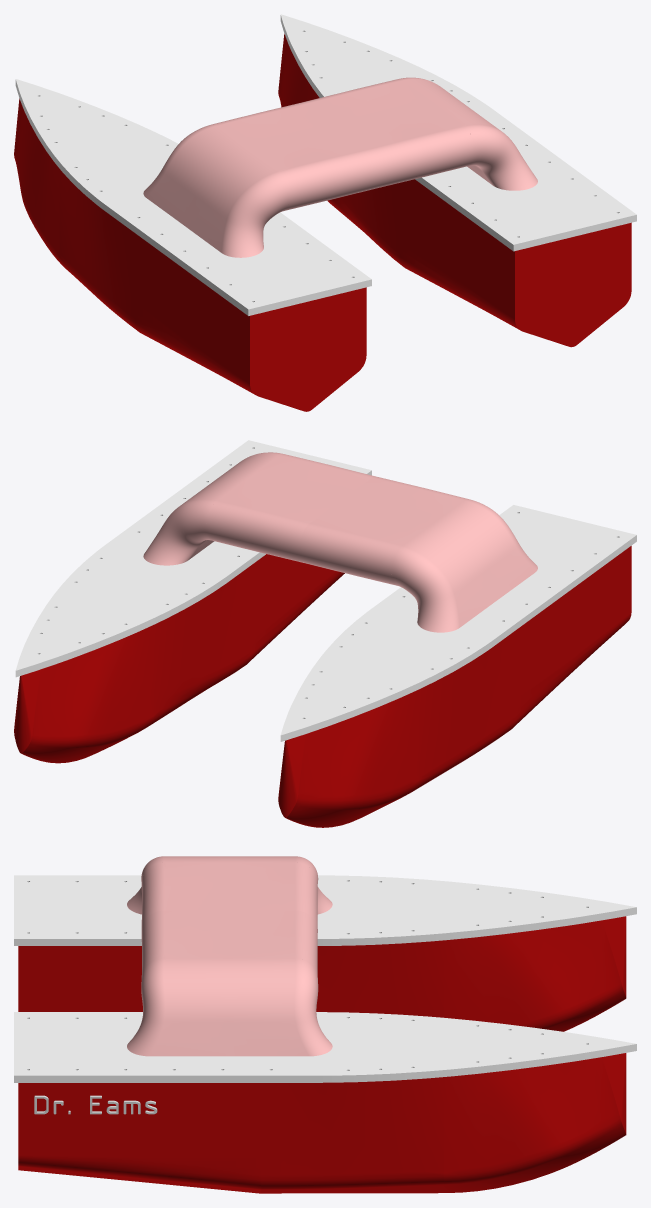
The model's file is boat-v3.glb.
The picture shows the model from 3 angles, top to bottom: view 1: azimuth 30°, elevation 25°; view 2: azimuth 150°, elevation 25°; view 3: azimuth 270°, elevation 25°; orthographic projection. The views are drawn at different scales.
Visible parts, largest first — view 1: Bridge, Port hull, Starboard hull, Port deck plate, Starboard deck plate; view 2: Bridge, Port hull, Starboard hull, Port deck plate, Starboard deck plate; view 3: Starboard hull, Bridge, Port hull, Starboard deck plate, Port deck plate, “Dr. Eams” lettering.
Boxes of the visible parts, box(x1,y1,x2,y2) form: Bridge: box(143, 77, 537, 257); Port hull: box(14, 98, 366, 411); Starboard hull: box(278, 34, 631, 347); Port deck plate: box(15, 79, 371, 315); Starboard deck plate: box(280, 14, 636, 251); Bridge: box(143, 452, 537, 632); Port hull: box(278, 546, 631, 827); Starboard hull: box(14, 554, 344, 763); Port deck plate: box(280, 505, 636, 741); Starboard deck plate: box(15, 440, 371, 677); Starboard hull: box(18, 1053, 626, 1193); Bridge: box(127, 856, 332, 1056); Port hull: box(18, 916, 626, 1031); Starboard deck plate: box(14, 1012, 636, 1082); Port deck plate: box(14, 875, 636, 945); “Dr. Eams” lettering: box(34, 1095, 157, 1114).
Size of the model in its own units: 0.733 by 0.3653 by 0.9629.
